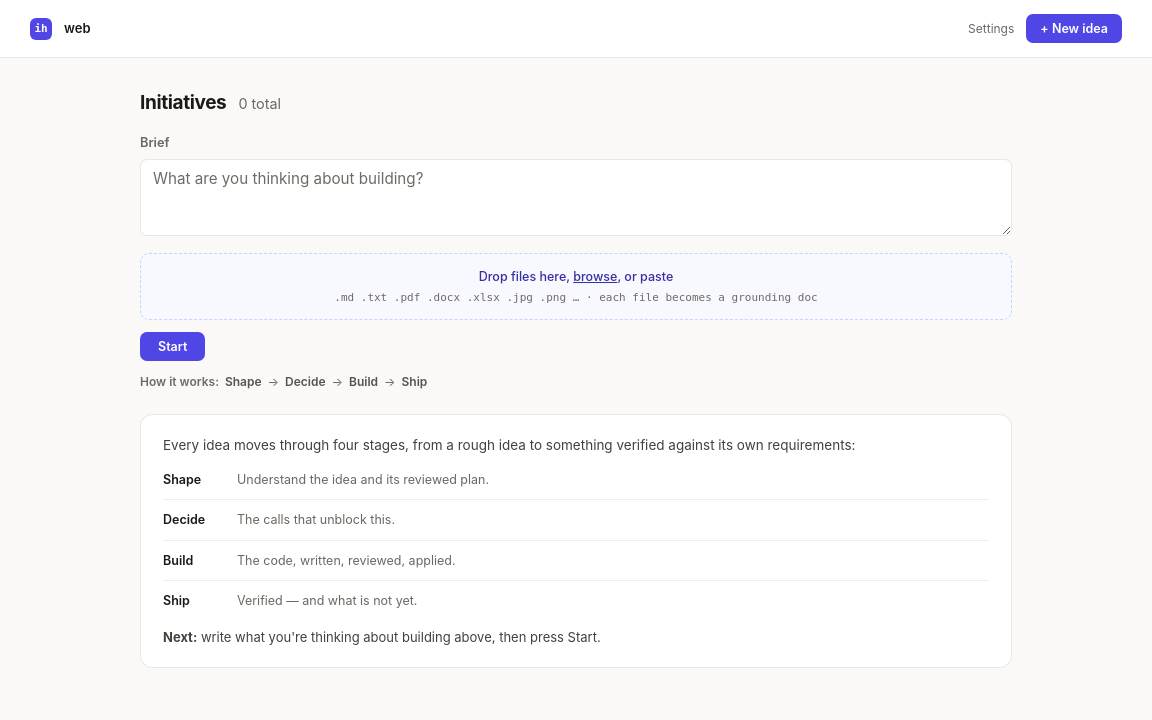
ProductHome compose › no-ops with an empty brief and shows the hint
Click the button "Start": (173, 347) [140,332,205,362]
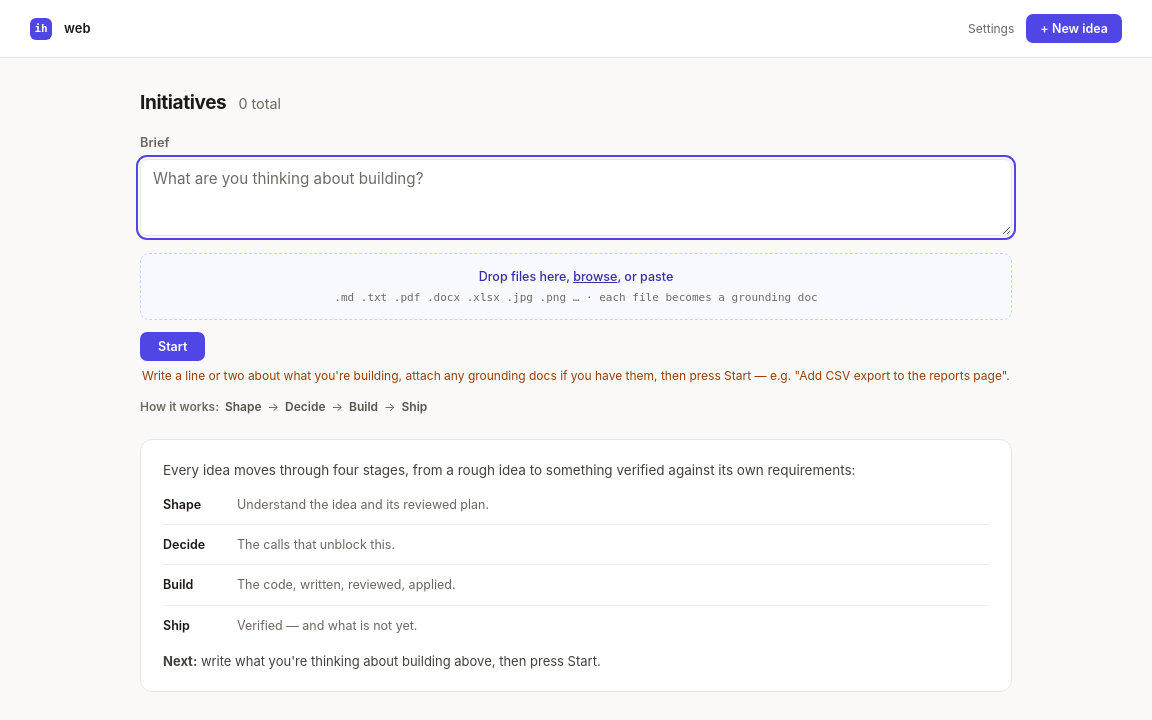
expect the text "Write a line or two" is shown: met, box [142,368,1010,384]
